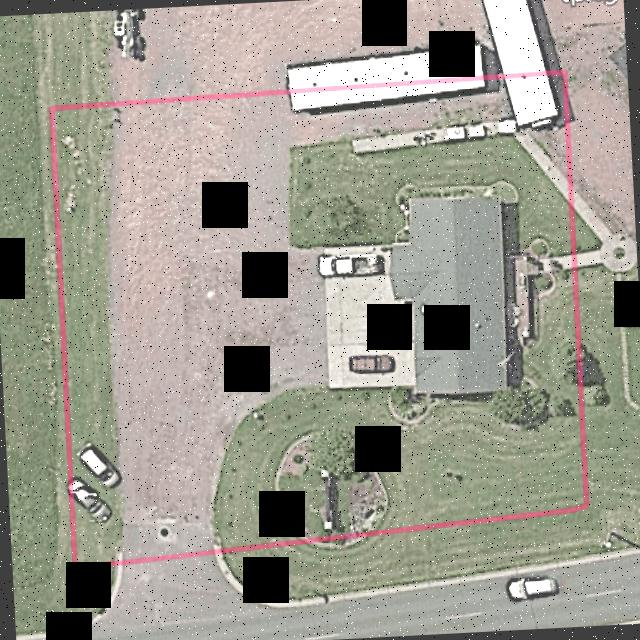Driveway: (109, 93, 506, 558)
Extra Lawn: (226, 512, 600, 599), (578, 267, 640, 559)
House: (406, 192, 511, 391)
Other: (276, 432, 389, 537)
Sidewalk: (516, 131, 567, 199), (575, 191, 612, 241), (576, 250, 603, 266), (551, 255, 573, 270)
